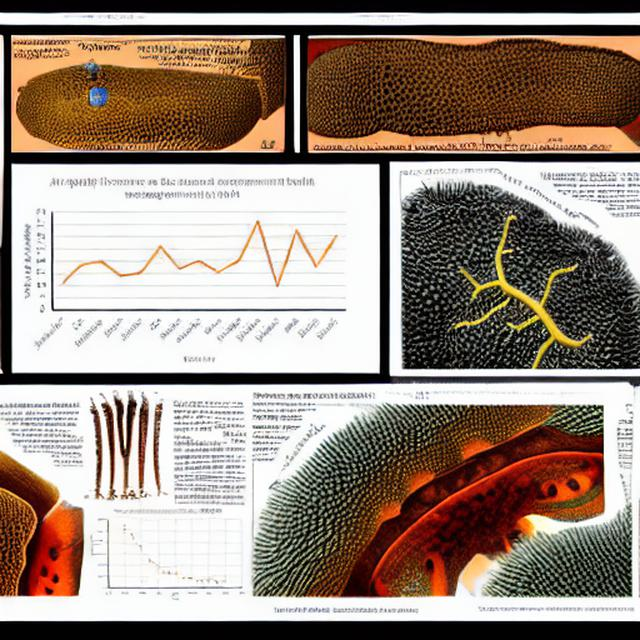Graph: (12, 171, 351, 369), (86, 505, 250, 605)
